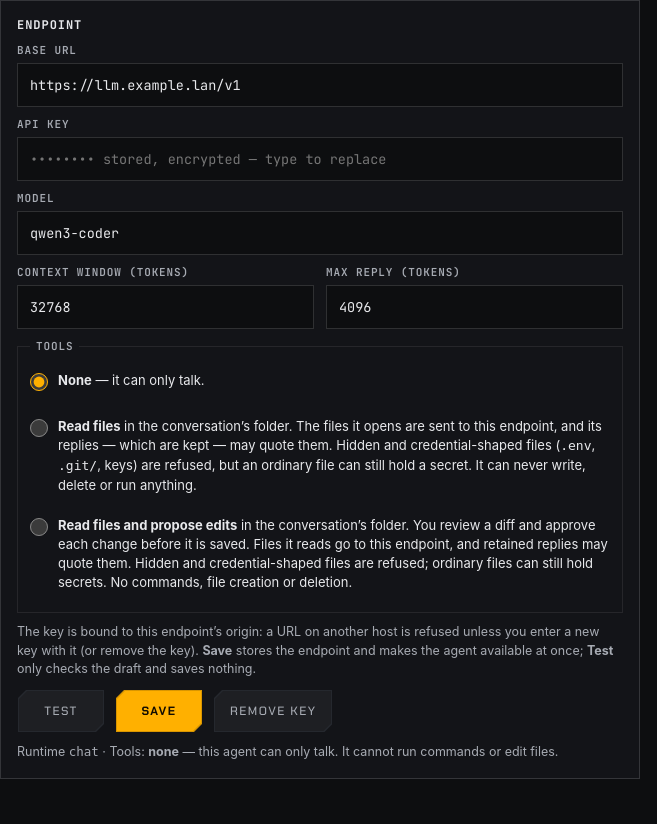
Test case: SAVE sends only what changed, then refreshes the roster and config
Replace the text in the field showing "qwen3-coder" with "other" at [320, 233], box [17,211,623,255]
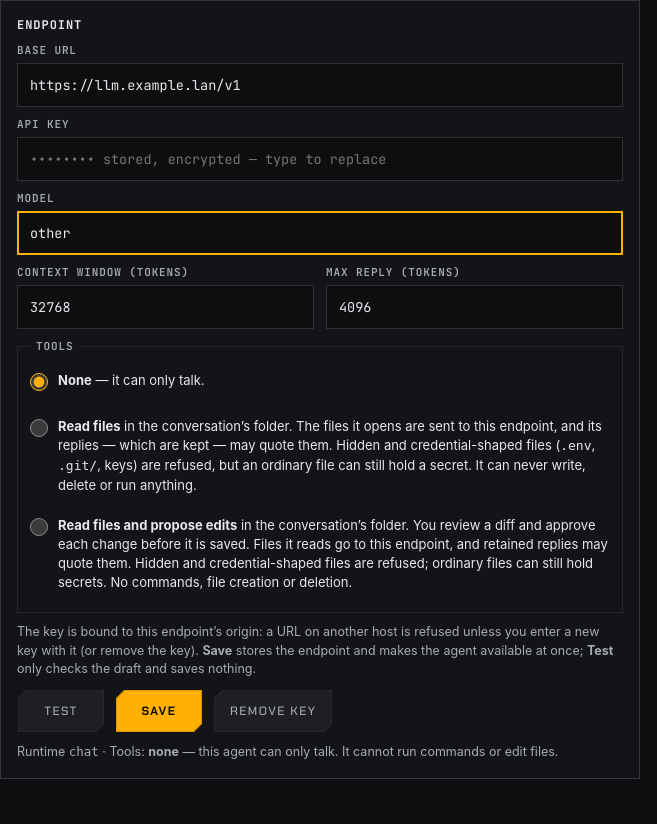
Type "sk-new" into the password field labelled "API key" at [320, 159], box [17,137,623,181]
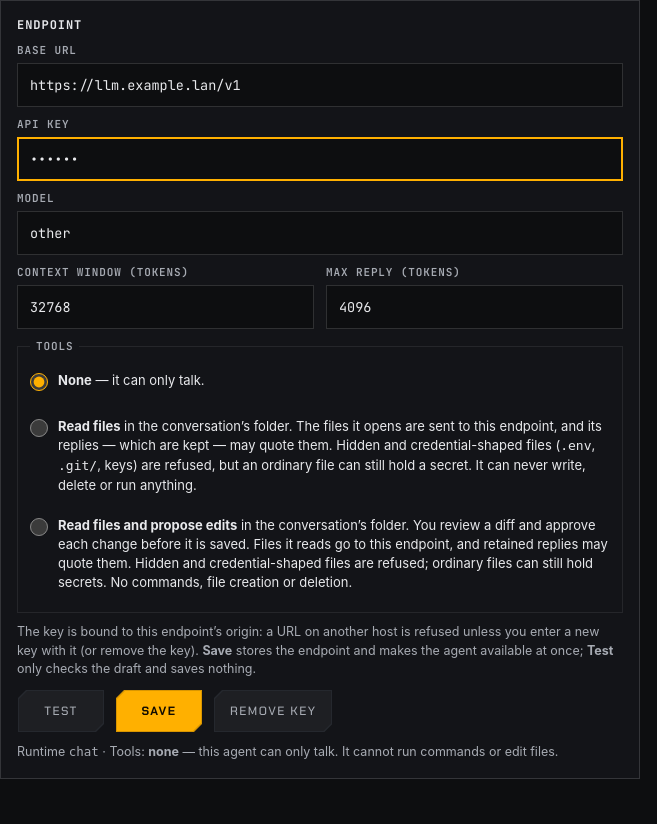
Click the button "Save" at [159, 711], box [115,689,203,733]
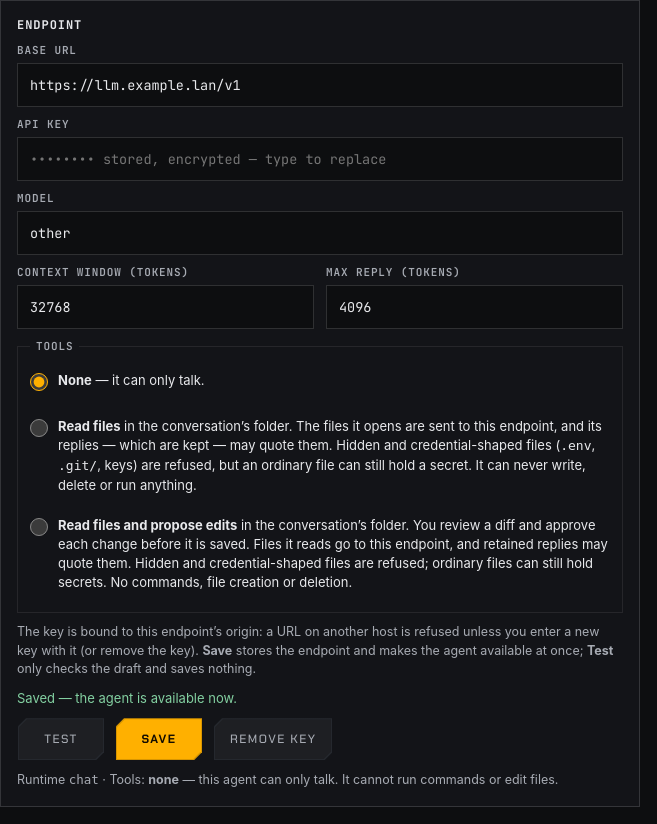
Expected: the message with test id "endpoint-status" shows "available now", [17,690,237,706]
Expected: the password field labelled "API key" is empty, [17,137,623,181]
